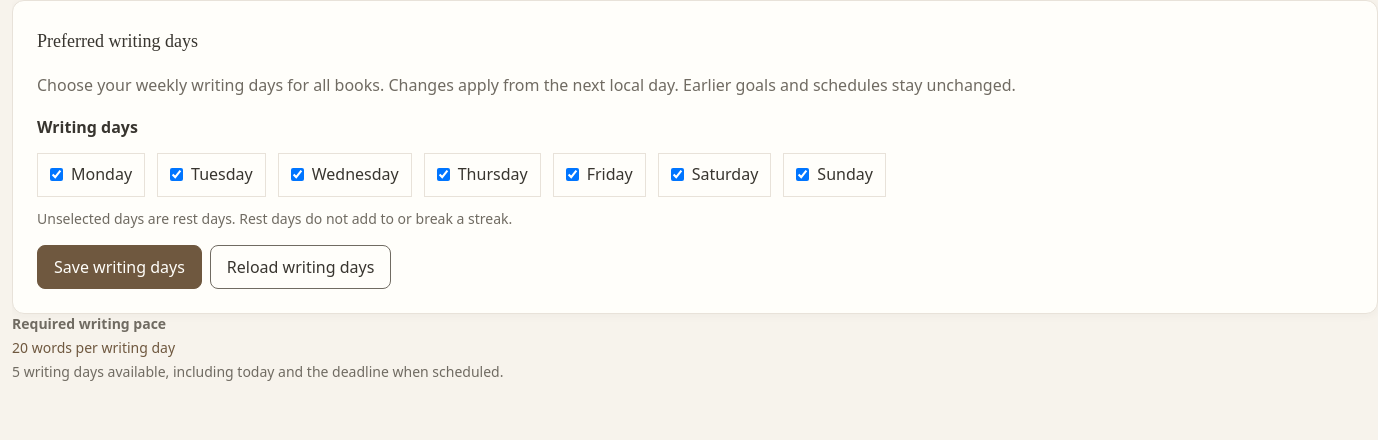
Test case: conflicts retain selection until explicit reload and allow a later save
Step 1. Click the checkbox labelled "Sunday" → (803, 175), box [796,168,809,181]
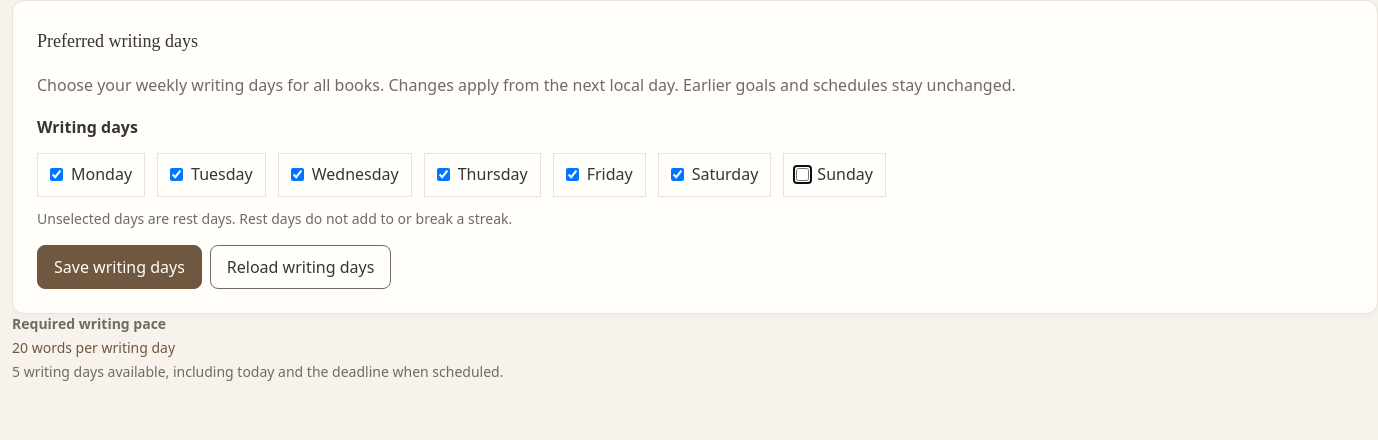
Step 2. Click the button "Save writing days" → (119, 267), box [37,245,202,289]
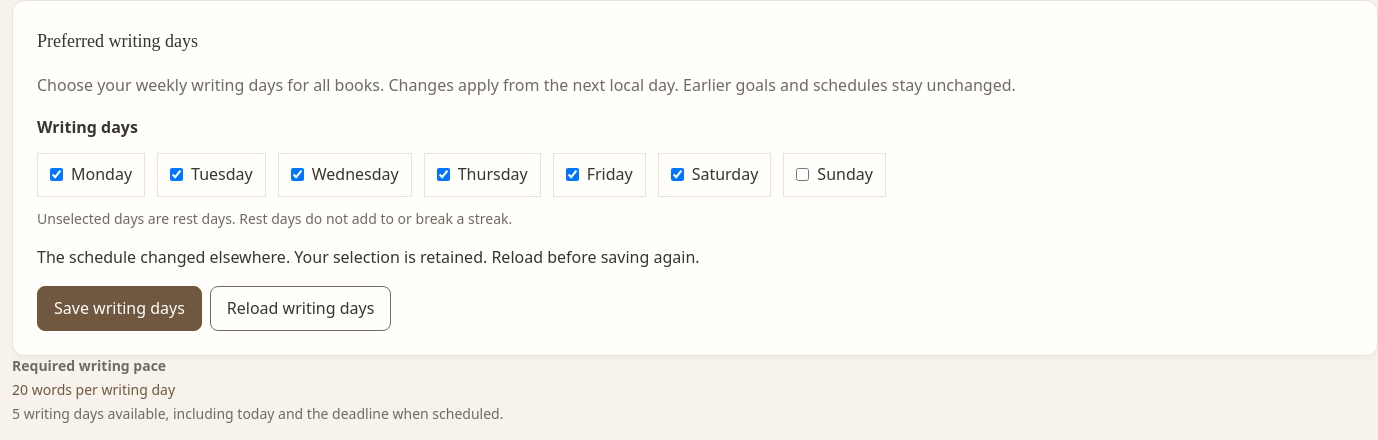
Expected: the checkbox labelled "Sunday" is not checked, [796,168,809,181]
Expected: the text "The schedule changed elsewhere" is shown, [37,246,700,268]
Step 3. Click the button "Reload writing days" → (301, 308), box [210,286,391,331]
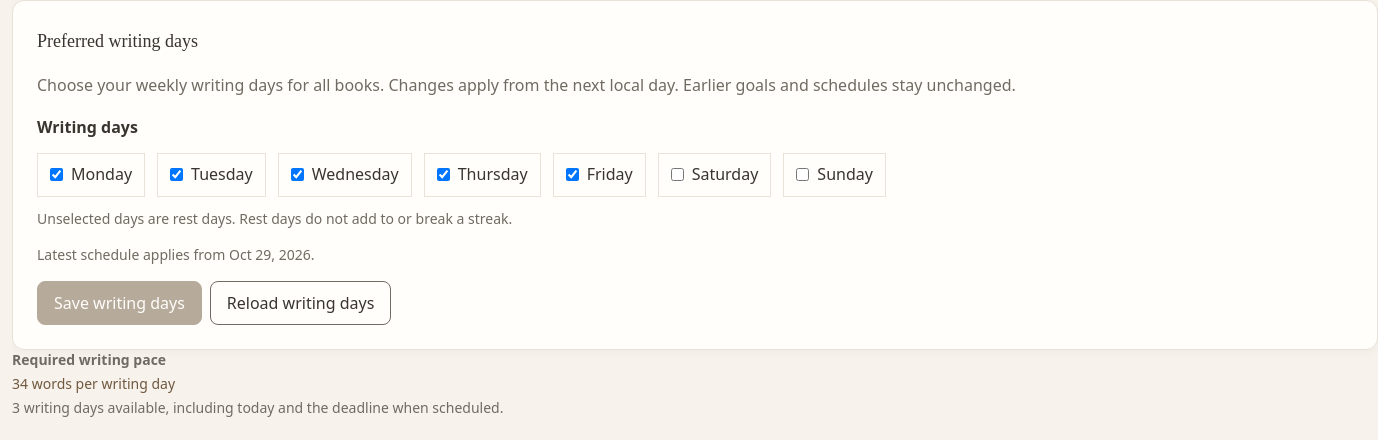
Expected: the checkbox labelled "Monday" is enabled, [50,168,63,181]
Expected: the checkbox labelled "Saturday" is not checked, [671,168,684,181]
